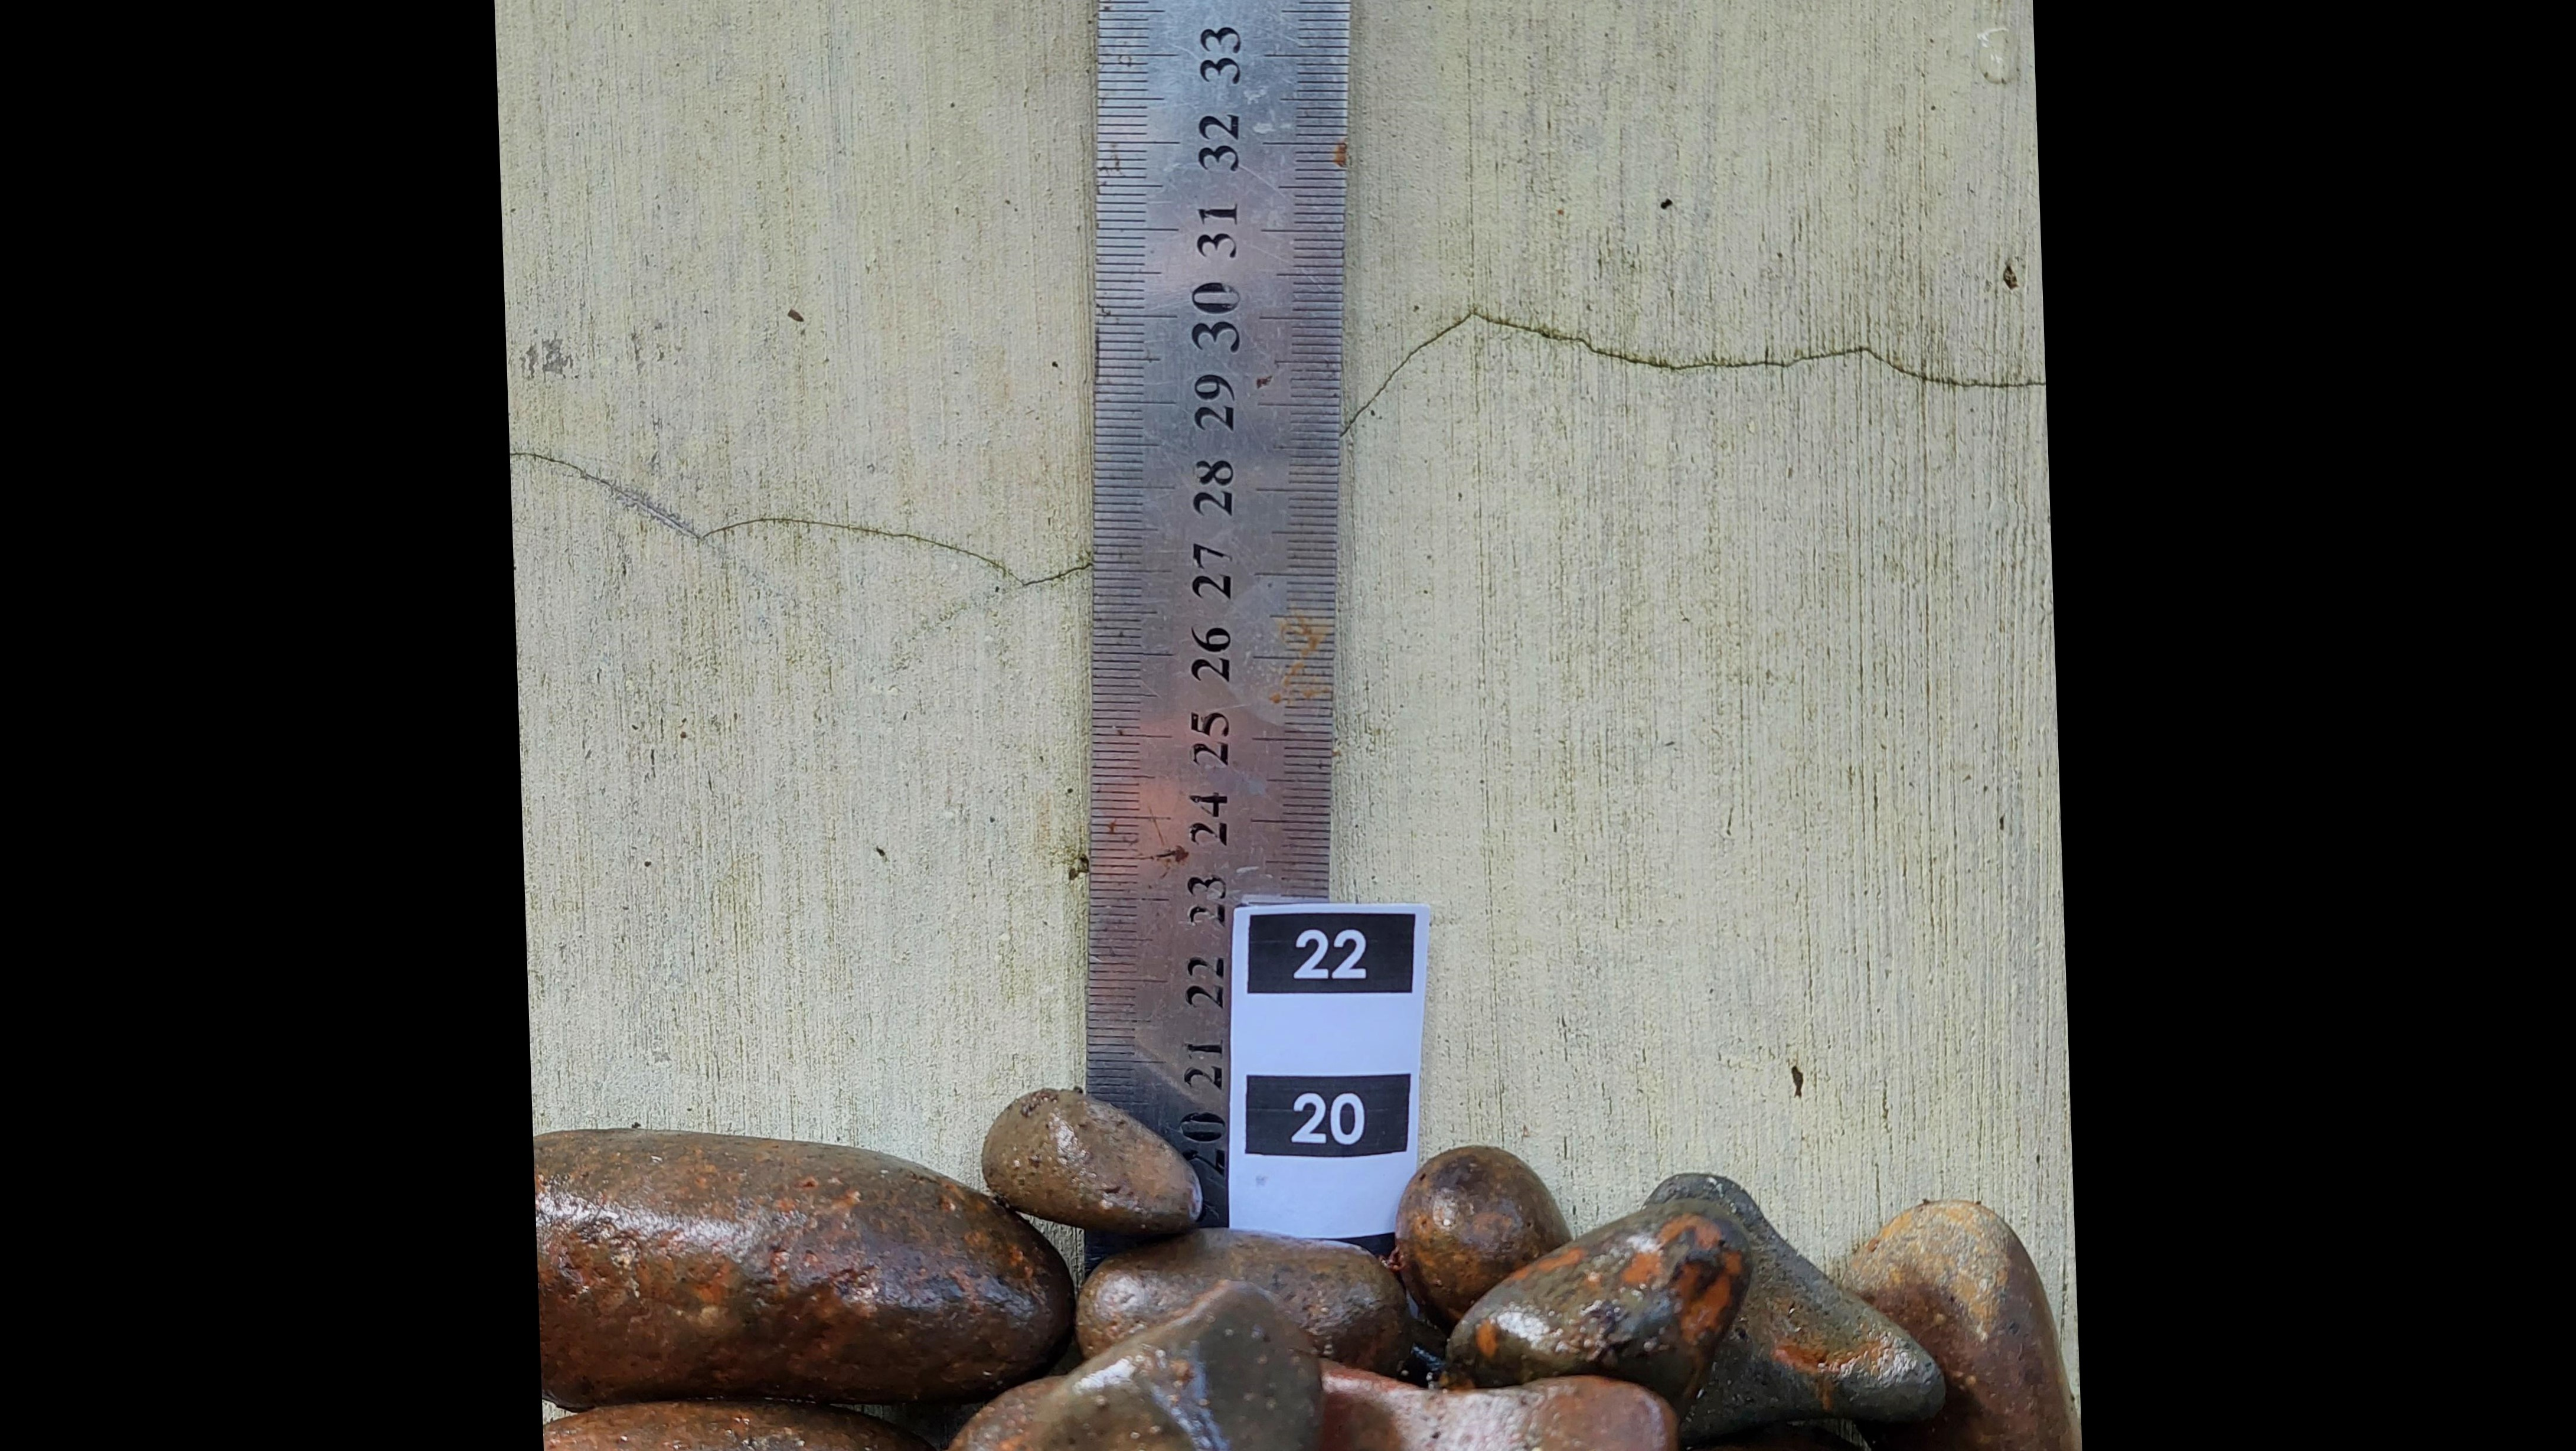kotak_2x1: (1244, 1074, 1410, 1155), (1249, 913, 1412, 994)
